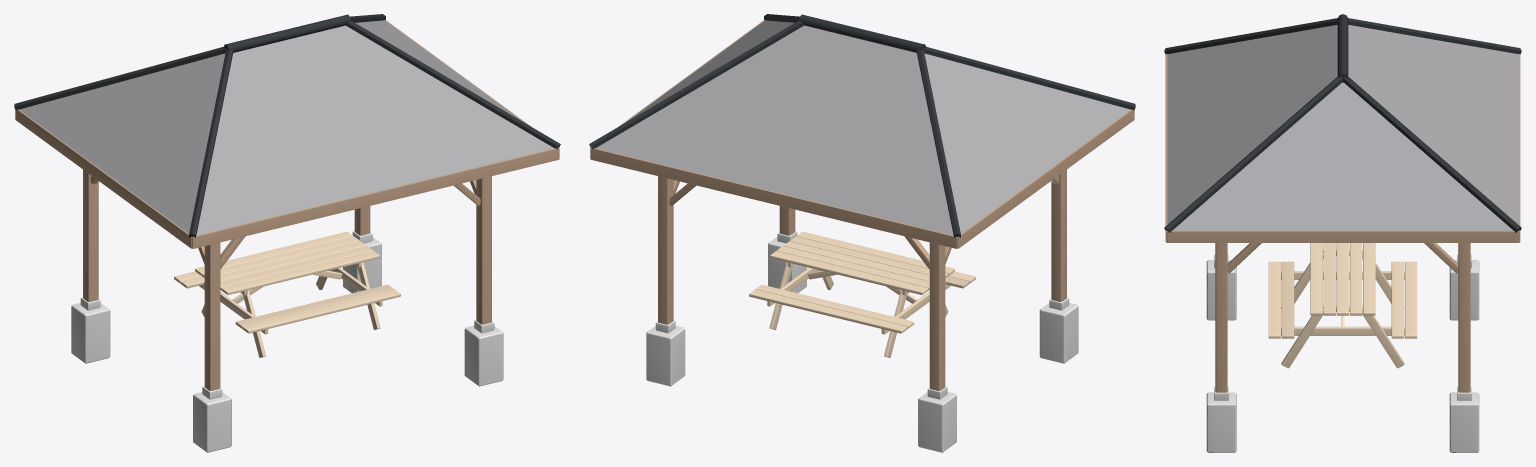
The model's file is playground_pavilion.glb.
3 views of the same model, side by side, from view 1: azimuth 30°, elevation 25°; view 2: azimuth 150°, elevation 25°; view 3: azimuth 270°, elevation 25° (orthographic).
Parts seen in each view (by area): view 1: playground_pavilion_roof_dark, playground_pavilion_wood_dark, playground_pavilion_wood_plank, playground_pavilion_concrete, playground_pavilion_steel_dark, playground_pavilion_steel_galv; view 2: playground_pavilion_roof_dark, playground_pavilion_wood_dark, playground_pavilion_wood_plank, playground_pavilion_concrete, playground_pavilion_steel_dark, playground_pavilion_steel_galv; view 3: playground_pavilion_roof_dark, playground_pavilion_wood_plank, playground_pavilion_wood_dark, playground_pavilion_steel_dark, playground_pavilion_concrete, playground_pavilion_steel_galv.
Part boxes in pixels (x1,y1,x2,y2): playground_pavilion_roof_dark: (19,20,553,235); playground_pavilion_wood_dark: (15,20,559,390); playground_pavilion_wood_plank: (174,231,400,357); playground_pavilion_concrete: (71,237,503,452); playground_pavilion_steel_dark: (14,14,560,237); playground_pavilion_steel_galv: (80,231,494,399); playground_pavilion_roof_dark: (596,20,1130,235); playground_pavilion_wood_dark: (590,20,1134,390); playground_pavilion_wood_plank: (749,231,975,357); playground_pavilion_concrete: (646,237,1078,452); playground_pavilion_steel_dark: (589,14,1135,237); playground_pavilion_steel_galv: (655,231,1069,399); playground_pavilion_roof_dark: (1167,25,1518,230); playground_pavilion_wood_plank: (1268,243,1417,368); playground_pavilion_wood_dark: (1165,54,1520,392); playground_pavilion_steel_dark: (1164,14,1521,232); playground_pavilion_concrete: (1206,260,1479,452); playground_pavilion_steel_galv: (1214,254,1471,400).
Size of the model in its own units: 4.87 by 4.23 by 4.06.
